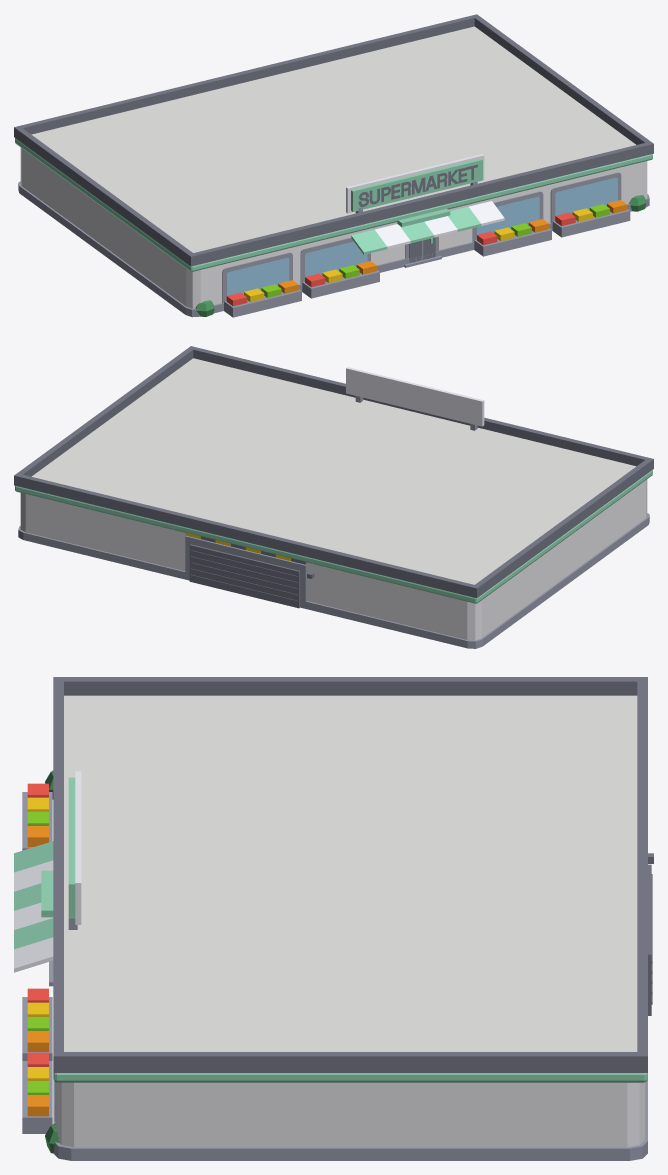
The model's file is supermarket-3x2-t2-tone-a.glb.
3 views of the same model, one above another, from view 1: azimuth 30°, elevation 25°; view 2: azimuth 150°, elevation 25°; view 3: azimuth 270°, elevation 25° (orthographic). The views are drawn at different scales.
Parts seen in each view (by area): view 1: supermarket-3x2-t2-tone-a; view 2: supermarket-3x2-t2-tone-a; view 3: supermarket-3x2-t2-tone-a.
Part boxes in pixels (x1,y1,x2,y2): supermarket-3x2-t2-tone-a: [14, 14, 653, 317]; supermarket-3x2-t2-tone-a: [14, 346, 653, 648]; supermarket-3x2-t2-tone-a: [14, 677, 653, 1160].
Bounding box in the file's own units: 2.96 × 0.524 × 2.11.
Materials: 1 (1 with a texture image).
